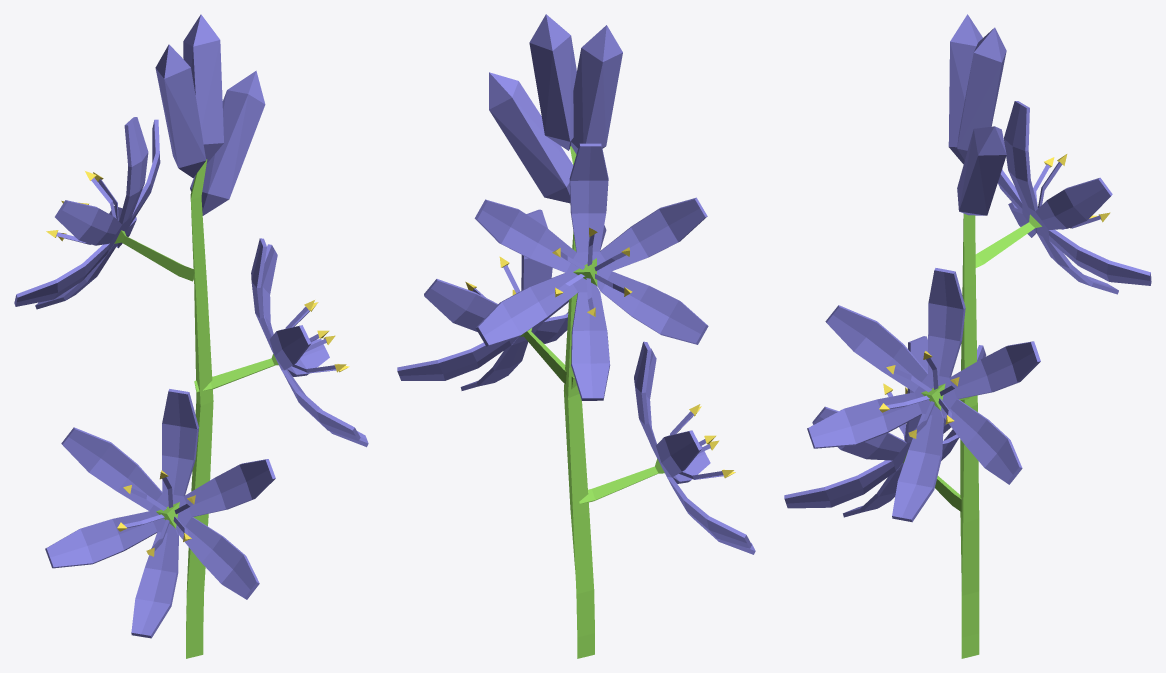
File: common-camas.glb
3 renders of one model, left to right at view 1: azimuth 30°, elevation 25°; view 2: azimuth 150°, elevation 25°; view 3: azimuth 270°, elevation 25°, orthographic. The views are drawn at different scales.
Parts seen in each view (by area): view 1: Plane.001, Cube, Cylinder, Plane.003, Plane.002, Cylinder.002, Cylinder.003, Cylinder.004; view 2: Plane.003, Cube, Cylinder, Plane.002, Plane.001, Cylinder.004, Cylinder.002; view 3: Plane.002, Cube, Plane.003, Cylinder, Plane.001, Cylinder.003, Cylinder.004.
Part boxes in pixels (x1,y1,x2,y2): Plane.001: [45, 389, 275, 638]; Cube: [155, 14, 265, 215]; Cylinder: [114, 159, 278, 658]; Plane.003: [14, 117, 160, 309]; Plane.002: [251, 238, 368, 447]; Cylinder.002: [117, 470, 195, 556]; Cylinder.003: [285, 300, 349, 373]; Cylinder.004: [46, 171, 118, 244]; Plane.003: [474, 143, 708, 400]; Cube: [489, 14, 622, 203]; Cylinder: [519, 146, 664, 658]; Plane.002: [397, 209, 606, 390]; Plane.001: [634, 341, 755, 554]; Cylinder.004: [552, 227, 632, 316]; Cylinder.002: [670, 404, 735, 479]; Plane.002: [807, 268, 1040, 522]; Cube: [948, 14, 1006, 215]; Plane.003: [998, 101, 1151, 294]; Cylinder: [903, 213, 1041, 658]; Plane.001: [784, 336, 986, 517]; Cylinder.003: [879, 351, 959, 438]; Cylinder.004: [1033, 154, 1110, 229].
Size of the model in its own units: 1.02 by 1.96 by 1.02.
